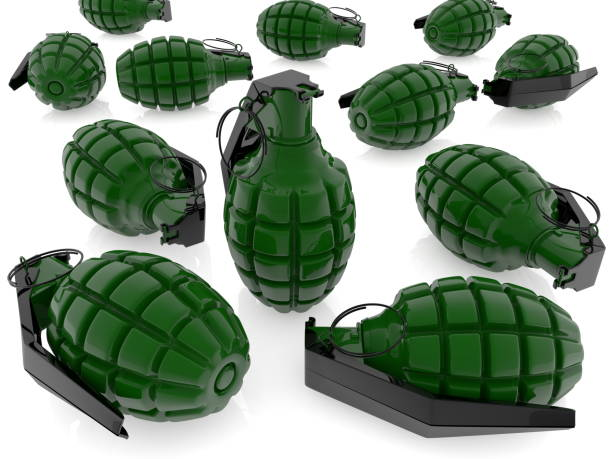e1: (9, 250, 252, 436), (303, 279, 585, 436), (218, 67, 358, 313), (63, 118, 205, 248), (346, 60, 480, 149), (115, 38, 251, 108), (488, 34, 600, 111), (256, 3, 366, 60)
